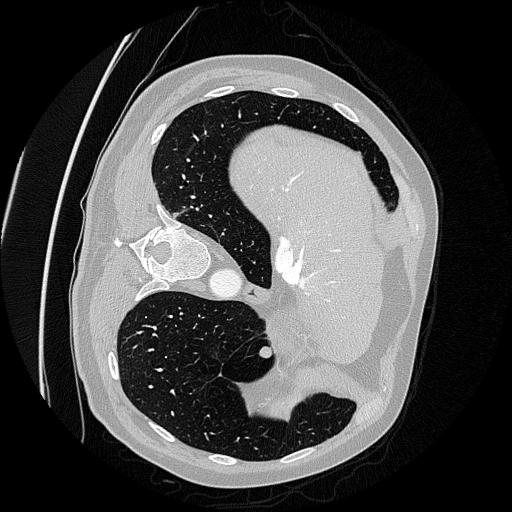nodule: (258, 342, 279, 363)
